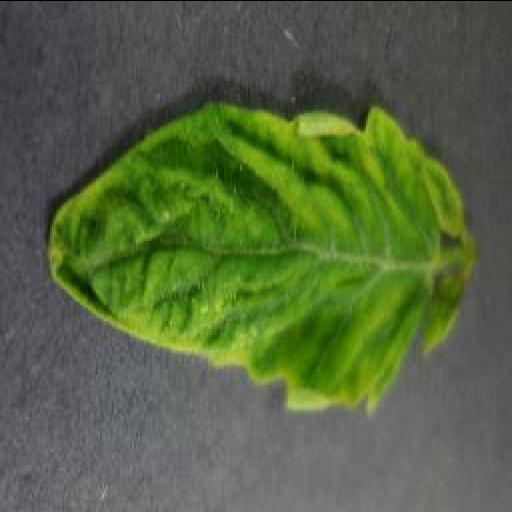disease_tomato: (46, 99, 476, 413)
